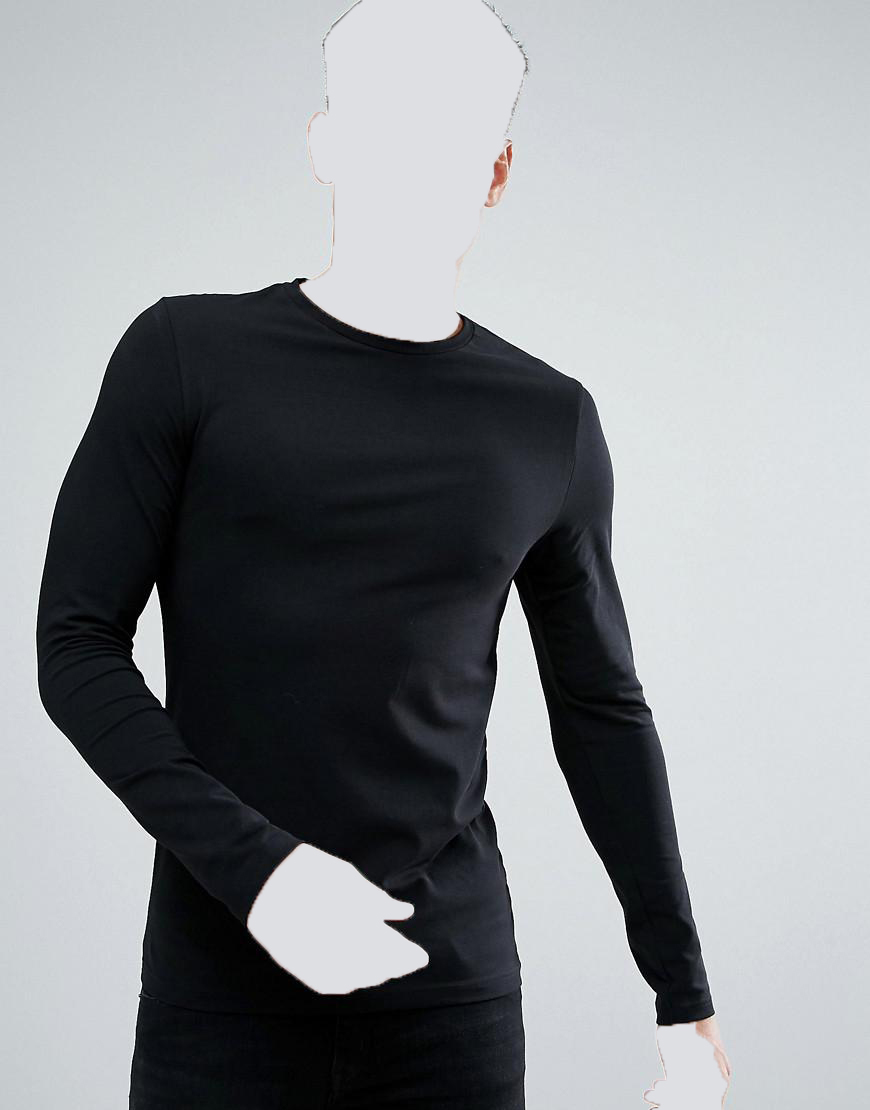teeshirt: (22, 273, 739, 1034)
